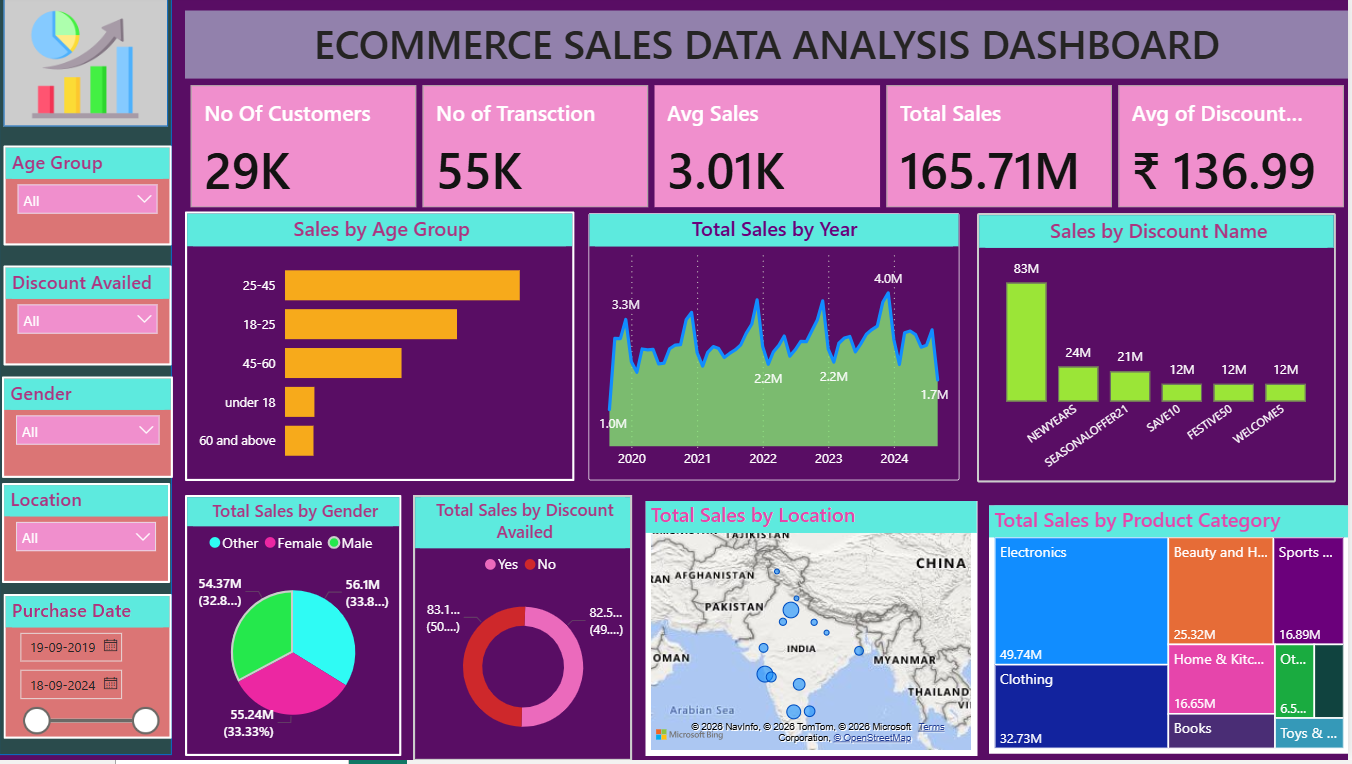

The page's visual inventory and layout, read from the dashboard file:
{"tool":"powerbi","page":{"name":"Summary Dashboard","canvas":[1280,720],"ordinal":0},"visuals":[{"type":"textbox","box":[186,15.6,1094.1,64.1],"z":0},{"type":"shape","box":[10.9,4.7,162.6,711.2],"z":1000},{"type":"cardVisual","fields":{"Data":["E_commers_Data.No Of Customers","E_commers_Data.No of Transction","E_commers_Data.Avg Sales","E_commers_Data.Total Sales","Avg(E_commers_Data.Discount Amount (INR))"]},"box":[186,79.7,1095,125],"z":2000},{"type":"barChart","title":" Sales by Age Group","fields":{"Category":["E_commers_Data.Age Group"],"Y":["E_commers_Data.Total Sales"]},"box":[186,204.8,365.7,253.2],"z":3000},{"type":"donutChart","fields":{"Category":["E_commers_Data.Discount Availed"],"Y":["E_commers_Data.Total Sales"]},"box":[401,470.5,206.3,250.1],"z":4000},{"type":"clusteredColumnChart","title":"Sales by Discount Name","fields":{"Category":["E_commers_Data.Discount Name"],"Y":["E_commers_Data.Total Sales"]},"box":[930,206.3,337.6,253.2],"z":5000},{"type":"pieChart","fields":{"Category":["E_commers_Data.Gender"],"Y":["E_commers_Data.Total Sales"]},"box":[186,470.5,203.2,245.4],"z":6000},{"type":"map","fields":{"Category":["E_commers_Data.Location"],"Size":["E_commers_Data.Total Sales"]},"box":[619.1,476.7,311,239.1],"z":7000},{"type":"treemap","fields":{"Group":["E_commers_Data.Product Category"],"Values":["E_commers_Data.Total Sales"]},"box":[942,481,338,233],"z":8000},{"type":"areaChart","title":"Total Sales by Year","fields":{"Category":["E_commers_Data.Purchase Date.Variation.Date Hierarchy.Year","E_commers_Data.Purchase Date.Variation.Date Hierarchy.Quarter","E_commers_Data.Purchase Date.Variation.Date Hierarchy.Month","E_commers_Data.Purchase Date.Variation.Date Hierarchy.Day"],"Y":["E_commers_Data.Total Sales"]},"box":[565.8,206.3,348.5,251.6],"z":9000},{"type":"slicer","title":"Age Group","fields":{"Values":["E_commers_Data.Age Group"]},"box":[15.6,142.2,157.9,93.8],"z":10000},{"type":"slicer","title":"Gender","fields":{"Values":["E_commers_Data.Gender"]},"box":[14.1,359.5,161,95.3],"z":11000},{"type":"slicer","title":"Discount Availed","fields":{"Values":["E_commers_Data.Discount Availed"]},"box":[15.6,254.8,157.9,93.8],"z":12000},{"type":"slicer","title":"Location","fields":{"Values":["E_commers_Data.Location"]},"box":[14.1,459.5,157.9,93.8],"z":13000},{"type":"shape","box":[15.6,4.7,154.7,120.4],"z":13500},{"type":"slicer","title":"Purchase Date","fields":{"Values":["E_commers_Data.Purchase Date"]},"box":[15.6,564.2,157.9,136],"z":14000},{"type":"image","box":[14.1,7.8,156.3,115.7],"z":16000}]}

Visuals, with their boxes in screenshot pixels (x1, y1, x2, y2), scaled from the page's 1280x720 canvas onto the 1352x764 screenshot:
textbox: {"left": 196, "top": 17, "right": 1351, "bottom": 85}
shape: {"left": 12, "top": 5, "right": 183, "bottom": 760}
cardVisual - E_commers_Data.No Of Customers x E_commers_Data.No of Transction: {"left": 196, "top": 85, "right": 1351, "bottom": 217}
" Sales by Age Group" barChart: {"left": 196, "top": 217, "right": 583, "bottom": 486}
donutChart - E_commers_Data.Discount Availed x E_commers_Data.Total Sales: {"left": 424, "top": 499, "right": 641, "bottom": 763}
"Sales by Discount Name" clusteredColumnChart: {"left": 982, "top": 219, "right": 1339, "bottom": 488}
pieChart - E_commers_Data.Gender x E_commers_Data.Total Sales: {"left": 196, "top": 499, "right": 411, "bottom": 760}
map - E_commers_Data.Location x E_commers_Data.Total Sales: {"left": 654, "top": 506, "right": 982, "bottom": 760}
treemap - E_commers_Data.Product Category x E_commers_Data.Total Sales: {"left": 995, "top": 510, "right": 1351, "bottom": 758}
"Total Sales by Year" areaChart: {"left": 598, "top": 219, "right": 966, "bottom": 486}
"Age Group" slicer: {"left": 16, "top": 151, "right": 183, "bottom": 250}
"Gender" slicer: {"left": 15, "top": 381, "right": 185, "bottom": 483}
"Discount Availed" slicer: {"left": 16, "top": 270, "right": 183, "bottom": 370}
"Location" slicer: {"left": 15, "top": 488, "right": 182, "bottom": 587}
shape: {"left": 16, "top": 5, "right": 180, "bottom": 133}
"Purchase Date" slicer: {"left": 16, "top": 599, "right": 183, "bottom": 743}
image: {"left": 15, "top": 8, "right": 180, "bottom": 131}
